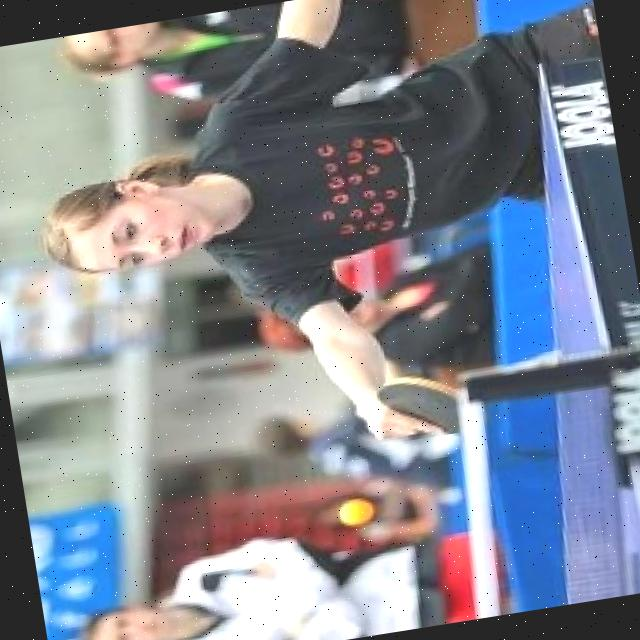ping-pong-ball: (332, 496, 376, 528)
